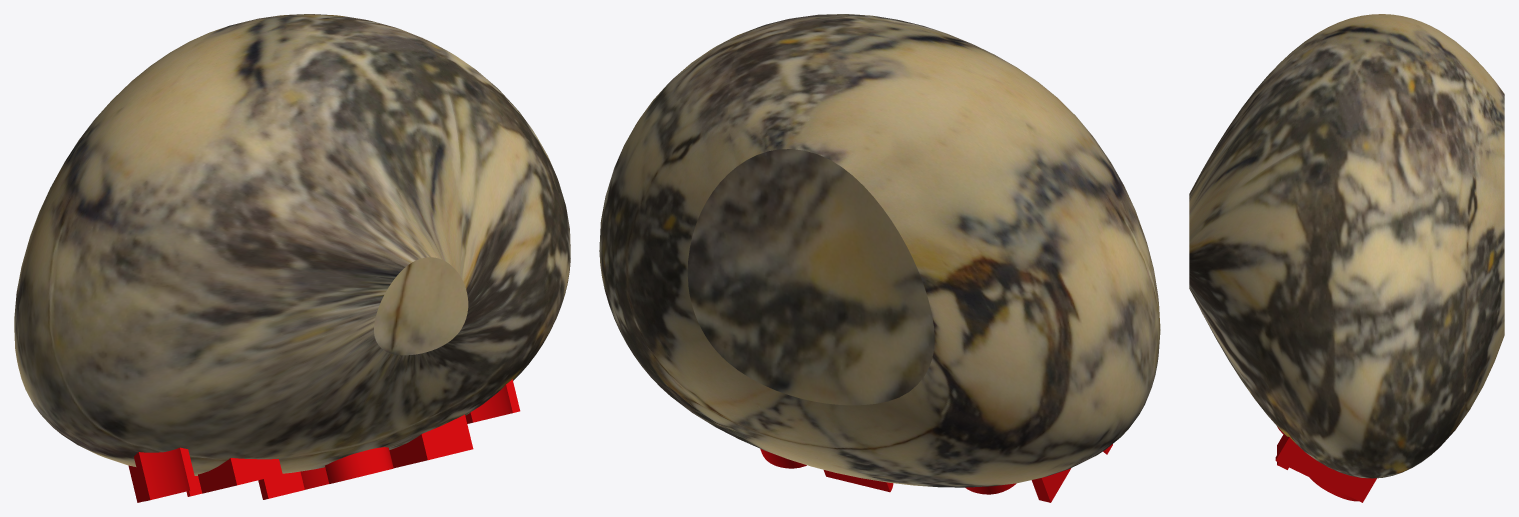
File: 15251Rock.obj
3 renders of one model, left to right at view 1: azimuth 30°, elevation 25°; view 2: azimuth 150°, elevation 25°; view 3: azimuth 270°, elevation 25°, orthographic. The views are drawn at different scales.
Visible parts, largest first — view 1: object_1, object_6, object_3, object_4, object_2, object_7, object_5; view 2: object_1, object_6; view 3: object_1, object_7, object_3.
Part boxes in pixels (x1,y1,x2,y2): object_1: (14, 14, 570, 475); object_6: (128, 447, 197, 502); object_3: (389, 414, 473, 468); object_4: (300, 447, 393, 489); object_2: (186, 458, 282, 496); object_7: (465, 379, 520, 423); object_5: (258, 471, 304, 499); object_1: (599, 14, 1160, 487); object_6: (1031, 444, 1112, 502); object_1: (1189, 14, 1504, 478); object_7: (1275, 436, 1376, 502); object_3: (1277, 434, 1358, 501).
Size of the model in its own units: 4.78 by 3.94 by 2.76.
Materials: 2 (1 with a texture image).
